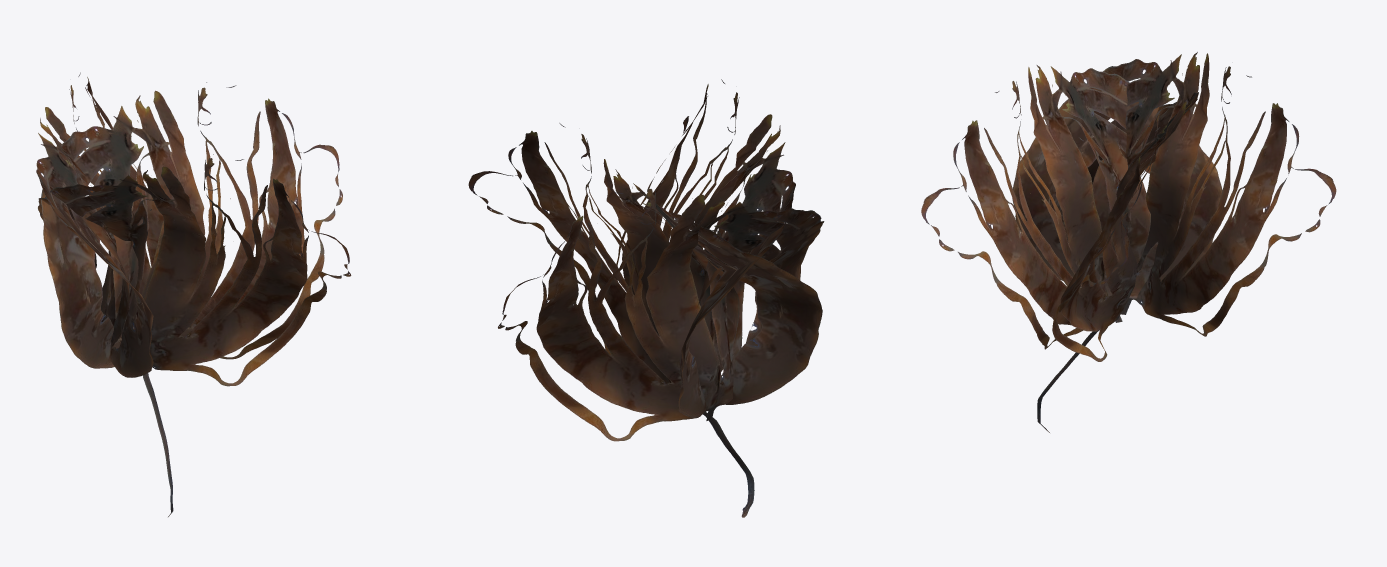
Rendered from algue_06.fbx.
The picture shows the model from 3 angles, left to right: view 1: azimuth 30°, elevation 25°; view 2: azimuth 150°, elevation 25°; view 3: azimuth 270°, elevation 25°; orthographic projection. The views are drawn at different scales.
Visible parts, largest first — view 1: Gross-morphology-of-Laminaria-digitata-A-and-B-and-Hedophyl.; view 2: Gross-morphology-of-Laminaria-digitata-A-and-B-and-Hedophyl.; view 3: Gross-morphology-of-Laminaria-digitata-A-and-B-and-Hedophyl..
Part boxes in pixels (x1=…): Gross-morphology-of-Laminaria-digitata-A-and-B-and-Hedophyl.: x1=36, y1=72, x2=351, y2=516; Gross-morphology-of-Laminaria-digitata-A-and-B-and-Hedophyl.: x1=468, y1=79, x2=824, y2=517; Gross-morphology-of-Laminaria-digitata-A-and-B-and-Hedophyl.: x1=921, y1=52, x2=1336, y2=432.
Size of the model in its own units: 89.29 by 100 by 117.
